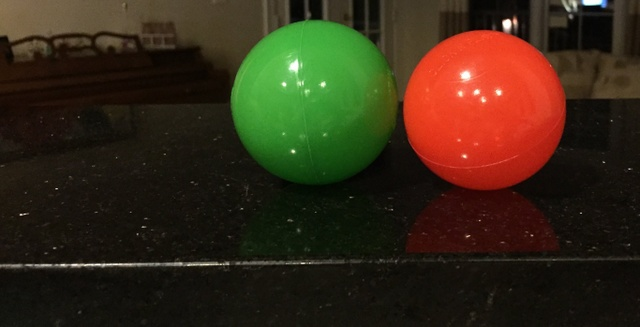Ball: (399, 30, 569, 192)
